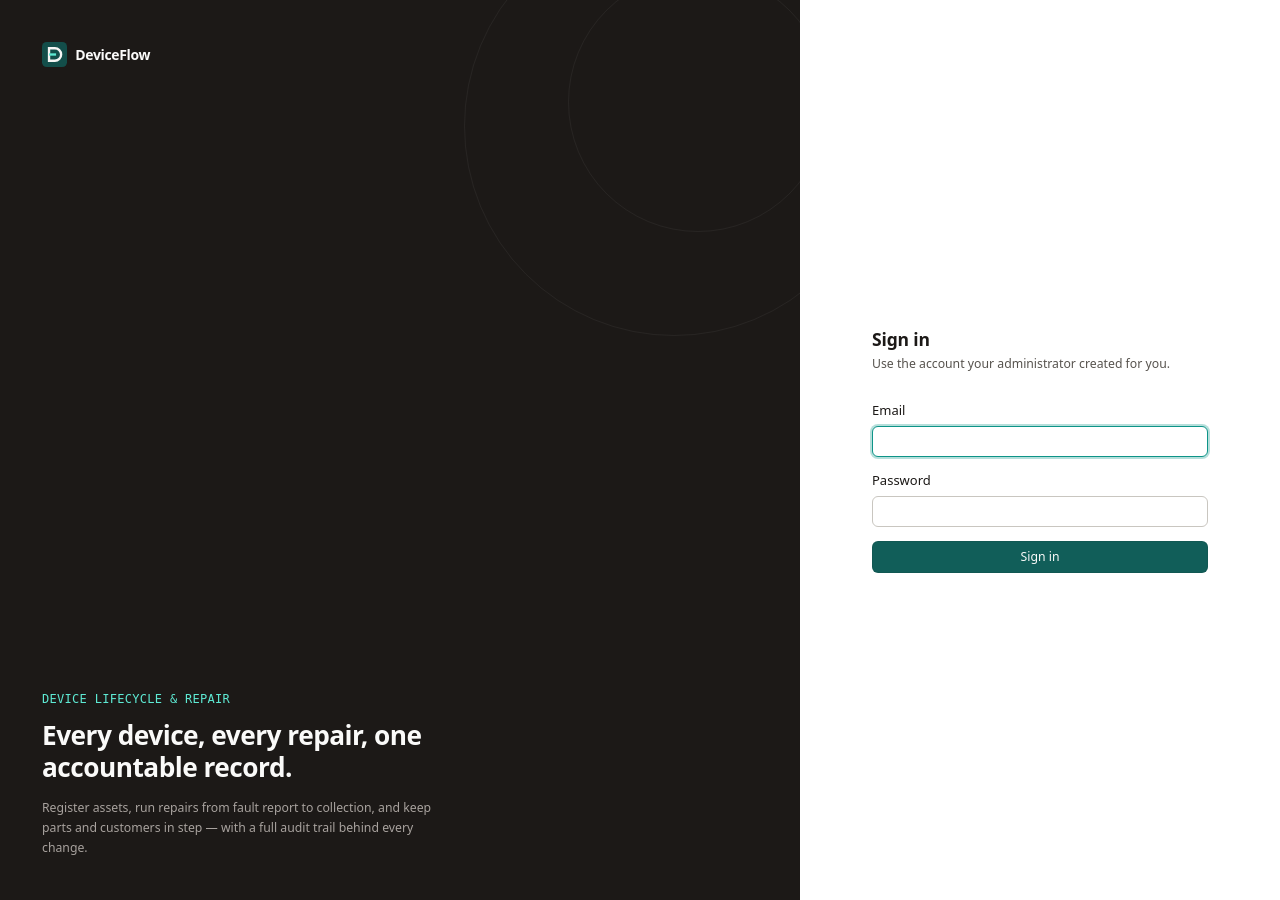
Test case: LoginPage › shows the API error message when credentials are rejected
The width and height of the screenshot is (1280, 900).
Type "admin@deviceflow.test" into the field labelled "Email".
click(1040, 441); type("admin@deviceflow.test")  # box top-left (872, 426), bottom-right (1208, 457)
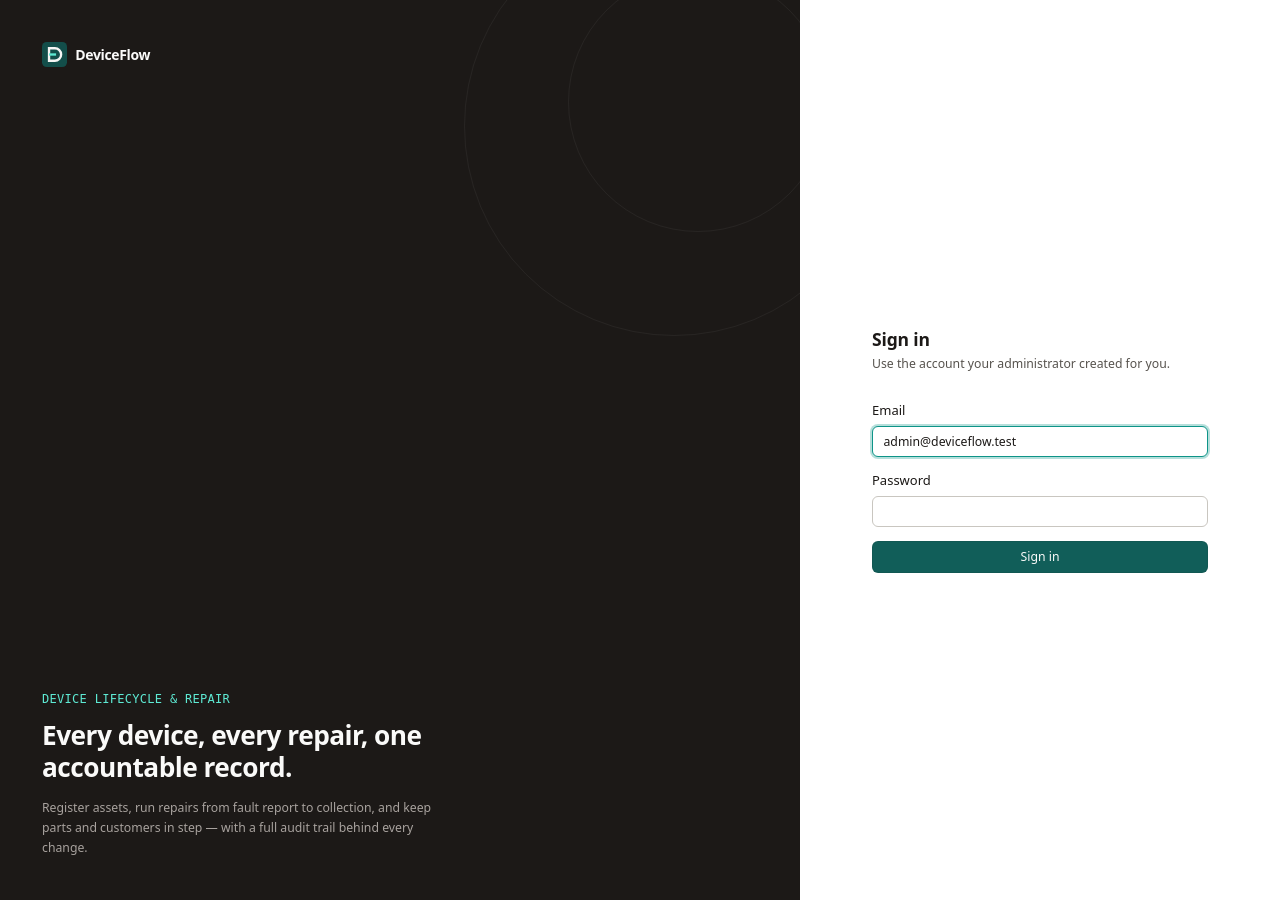
Type "wrong-password" into the password field labelled "Password".
click(1040, 512); type("wrong-password")  # box top-left (872, 496), bottom-right (1208, 527)
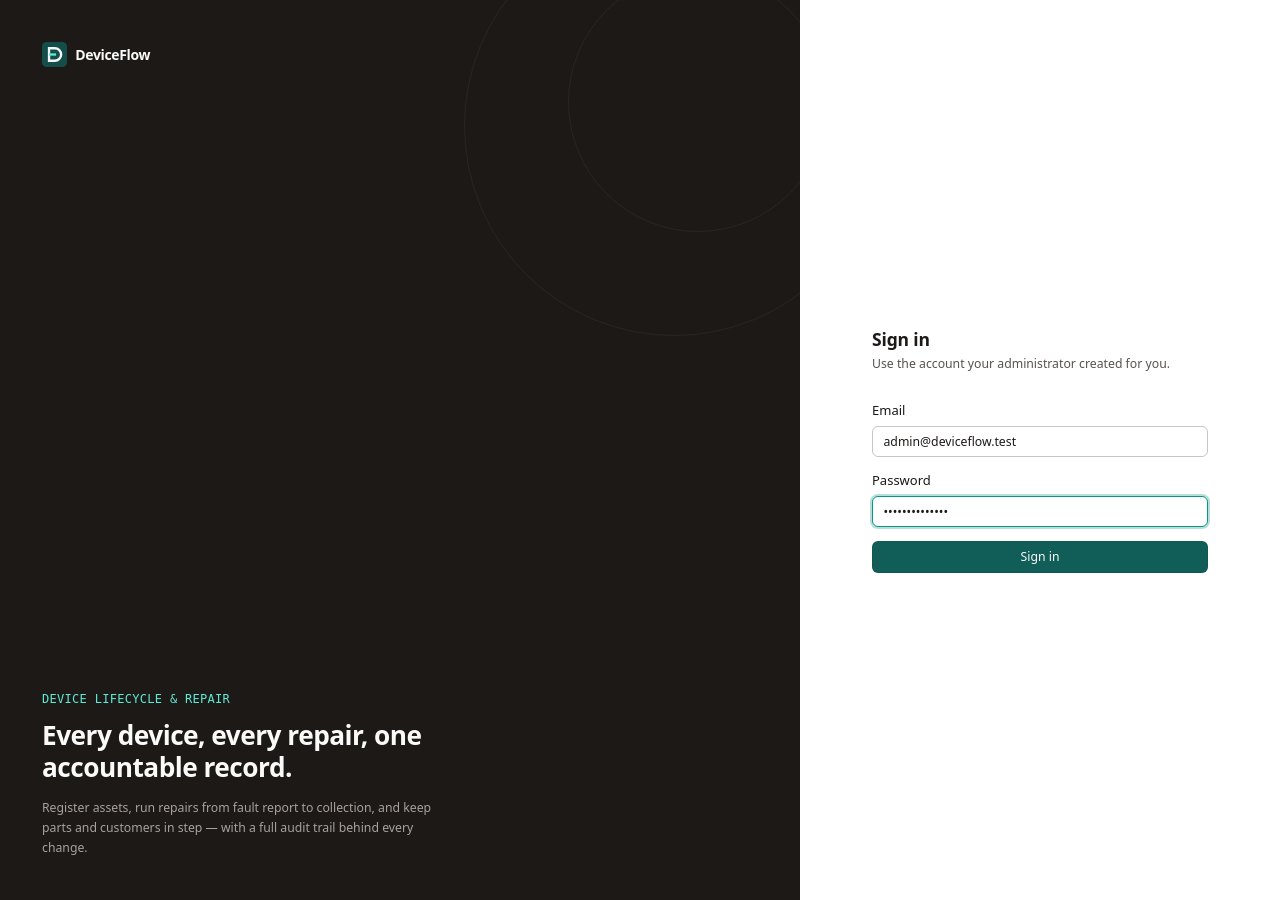
Click the button "Sign in".
click(1040, 557)  # box top-left (872, 541), bottom-right (1208, 573)
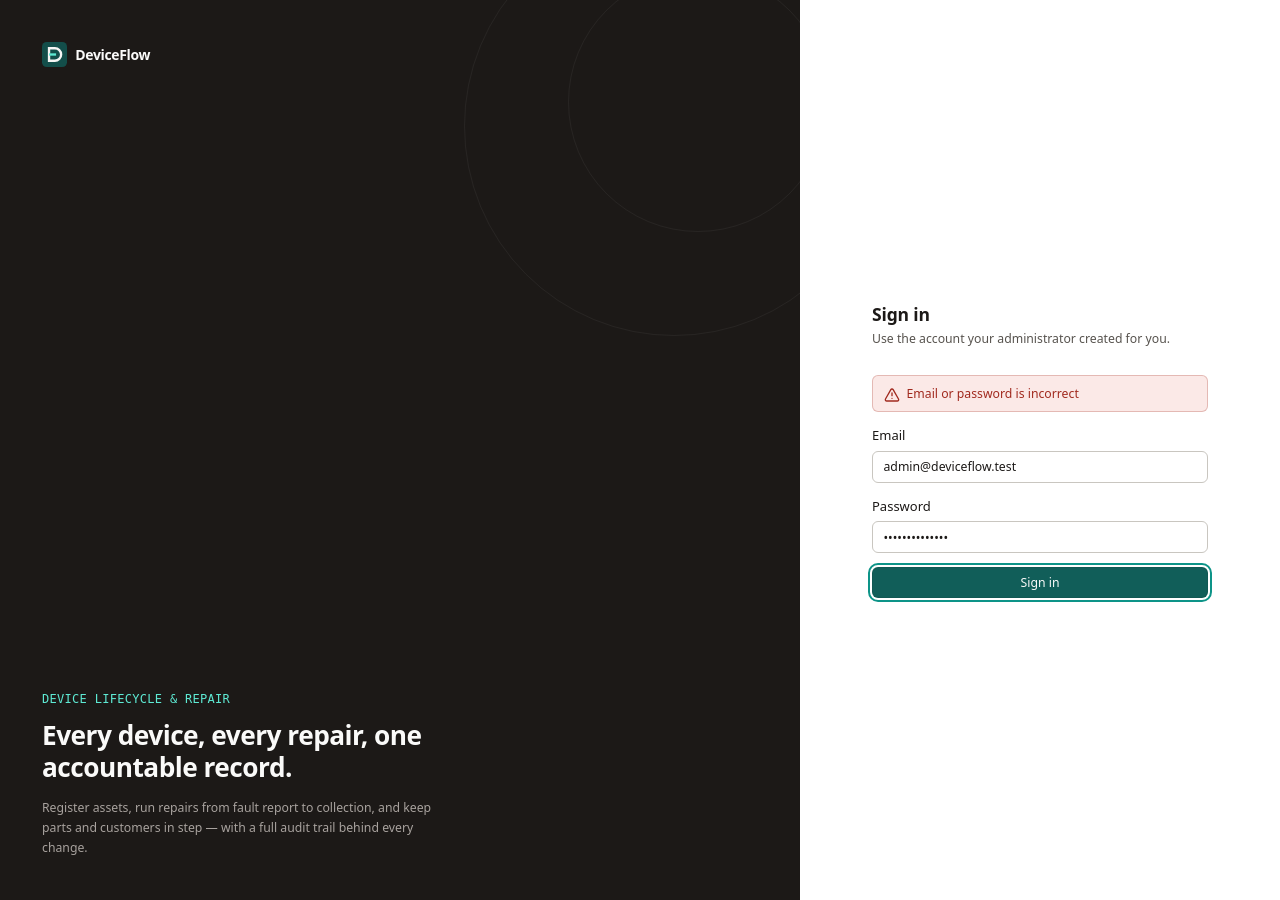
expect the message reads "Email or password is incorrect": met, box top-left (906, 385), bottom-right (1079, 402)
